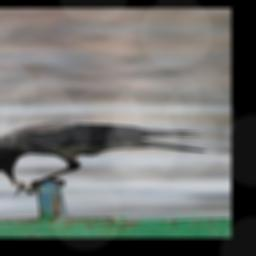Crow: (0, 120, 209, 189)
